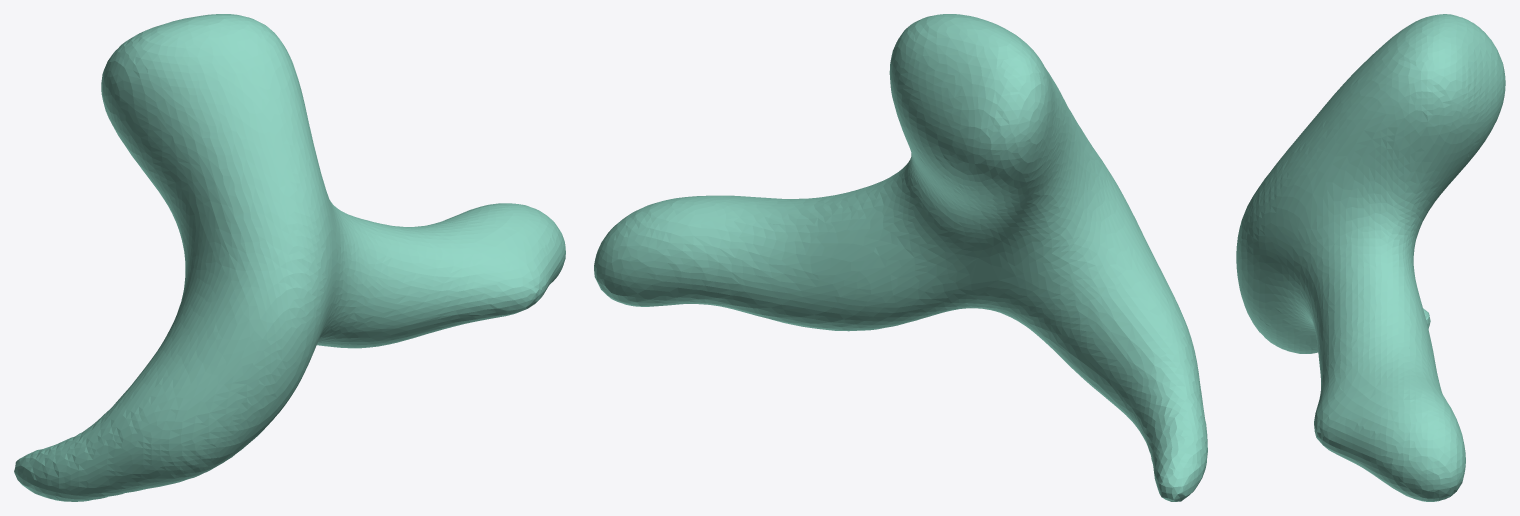
The model's file is ours.glb.
The picture shows the model from 3 angles, left to right: view 1: azimuth 30°, elevation 25°; view 2: azimuth 150°, elevation 25°; view 3: azimuth 270°, elevation 25°; orthographic projection. The views are drawn at different scales.
Parts seen in each view (by area): view 1: world; view 2: world; view 3: world.
Part boxes in pixels (box(x1,y1,x2,y2)): world: box(14, 14, 565, 501); world: box(594, 14, 1207, 501); world: box(1236, 14, 1505, 501).
Size of the model in its own units: 0.8093 by 0.5878 by 0.3629.
